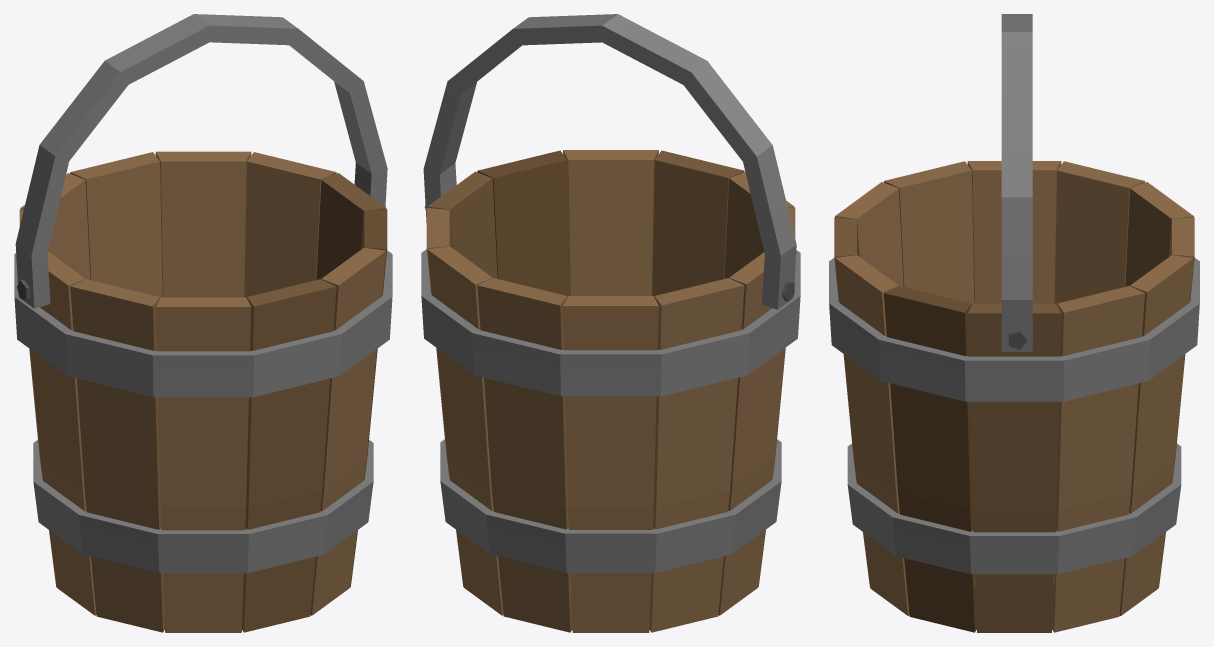
File: Mesh_Props_Bucket.FBX
The picture shows the model from 3 angles, left to right: view 1: azimuth 30°, elevation 25°; view 2: azimuth 150°, elevation 25°; view 3: azimuth 270°, elevation 25°; orthographic projection. The views are drawn at different scales.
Parts seen in each view (by area): view 1: Mesh_Props_Bucket_01, Mesh_Props_Bucket_02; view 2: Mesh_Props_Bucket_01, Mesh_Props_Bucket_02; view 3: Mesh_Props_Bucket_01, Mesh_Props_Bucket_02.
Boxes of the visible parts, x1,y1,x2,y2 form: Mesh_Props_Bucket_01: (14,151,392,632); Mesh_Props_Bucket_02: (15,14,387,308); Mesh_Props_Bucket_01: (421,150,800,632); Mesh_Props_Bucket_02: (423,14,796,309); Mesh_Props_Bucket_01: (829,161,1199,632); Mesh_Props_Bucket_02: (1001,14,1032,351).
Bounding box in the file's own units: 18.74 × 27.42 × 17.08.
